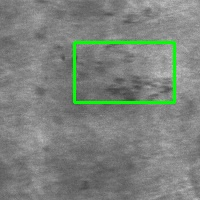rolled-in_scale: (74, 42, 174, 102)
